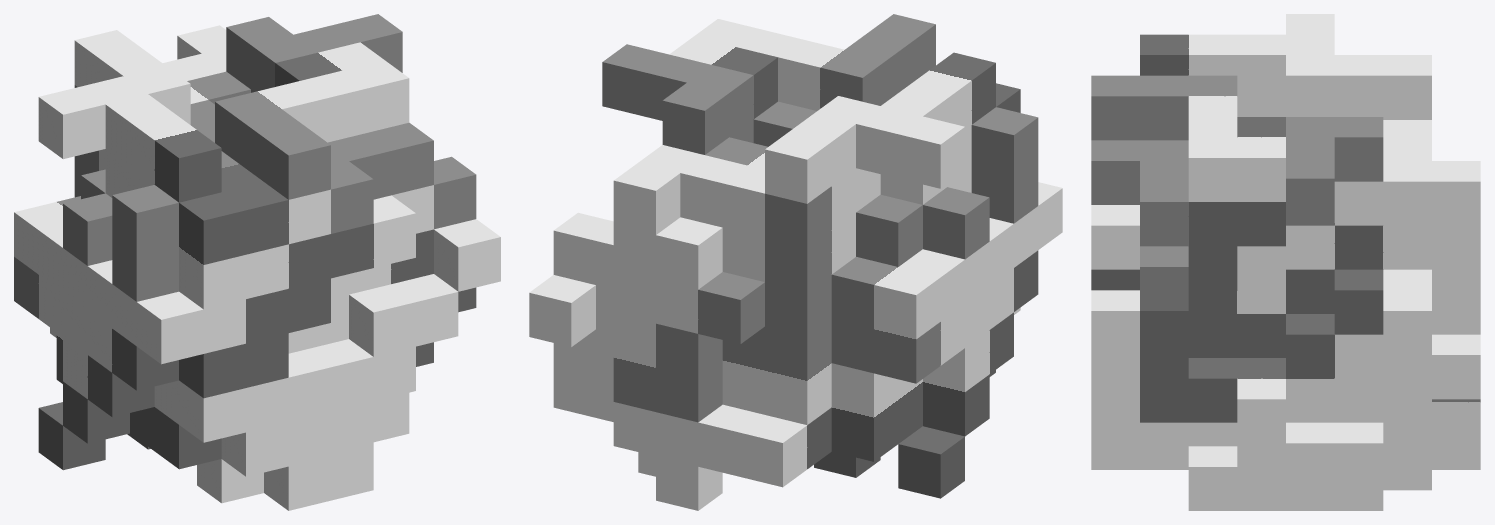
The model's file is garbage_small_satellite1.fbx.
3 views of the same model, side by side, from view 1: azimuth 30°, elevation 25°; view 2: azimuth 150°, elevation 25°; view 3: azimuth 270°, elevation 25° (orthographic).
Visible parts, largest first — view 1: garbage_small_satellite1; view 2: garbage_small_satellite1; view 3: garbage_small_satellite1.
Part boxes in pixels (left/top/right/bottom): garbage_small_satellite1: left=14, top=14, right=500, bottom=510; garbage_small_satellite1: left=529, top=14, right=1062, bottom=510; garbage_small_satellite1: left=1091, top=14, right=1480, bottom=510.
Size of the model in its own units: 8 by 8 by 8.
